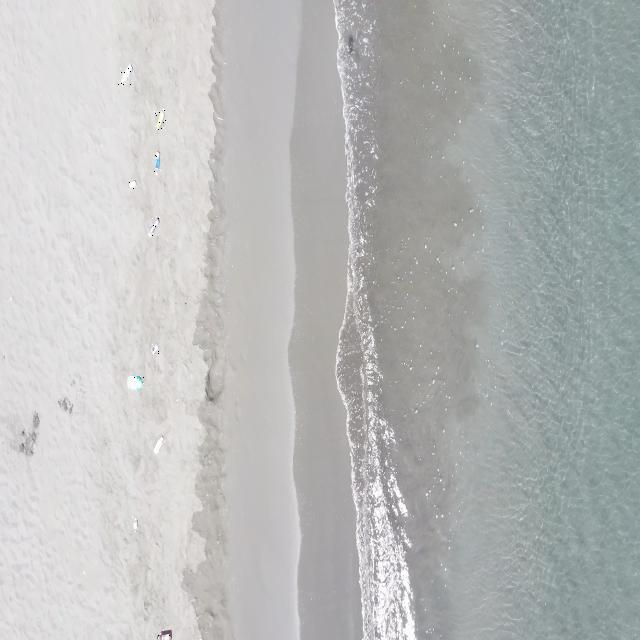Garbage: (57, 395, 72, 413), (127, 375, 143, 390), (119, 64, 131, 83), (148, 216, 158, 236), (152, 435, 163, 453), (156, 628, 171, 639), (156, 108, 163, 128), (154, 151, 160, 172), (151, 343, 158, 353), (131, 517, 136, 529), (128, 180, 135, 187)
